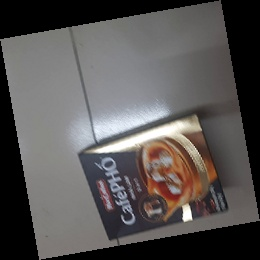CF pho: (77, 113, 229, 243)
